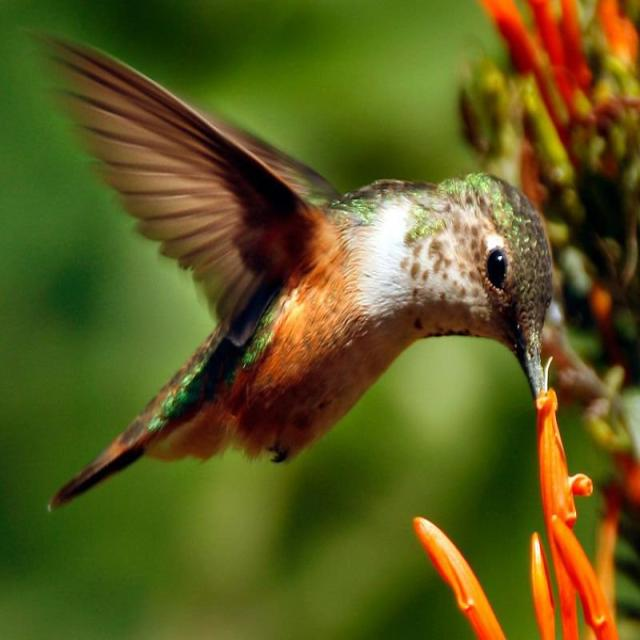Humming Bird: (43, 29, 550, 519)
